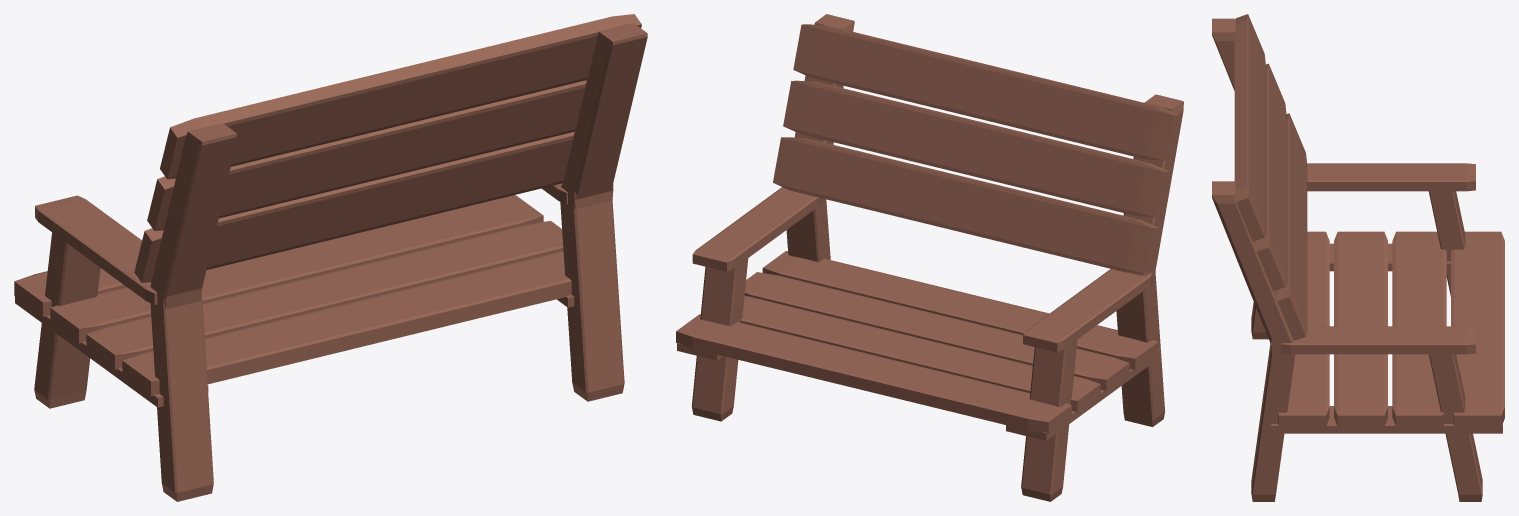
The model's file is Bench.fbx.
3 views of the same model, side by side, from view 1: azimuth 30°, elevation 25°; view 2: azimuth 150°, elevation 25°; view 3: azimuth 270°, elevation 25° (orthographic). The views are drawn at different scales.
Parts seen in each view (by area): view 1: Cube.001; view 2: Cube.001; view 3: Cube.001.
Boxes of the visible parts, x1,y1,x2,y2 form: Cube.001: (14, 14, 647, 501); Cube.001: (676, 14, 1183, 501); Cube.001: (1212, 14, 1504, 501).
Bounding box in the file's own units: 481 × 378 × 323.
